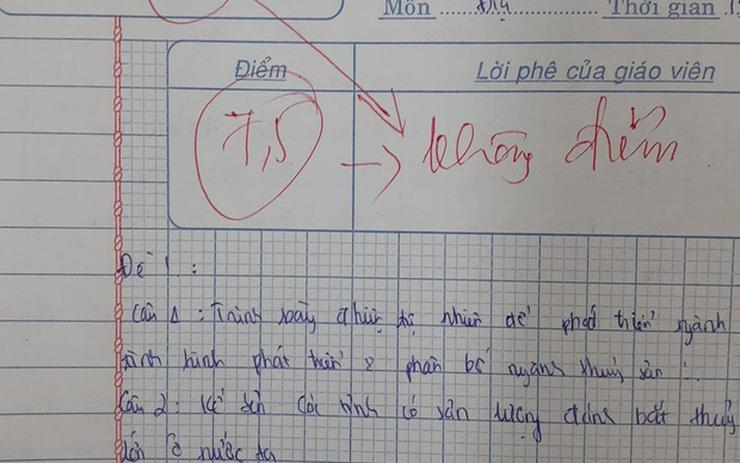text: (118, 384, 737, 445), (130, 299, 729, 349), (120, 343, 665, 390), (419, 91, 680, 189), (219, 97, 319, 174), (475, 56, 717, 86), (119, 428, 278, 463), (606, 0, 716, 20), (116, 248, 171, 282), (233, 54, 288, 82), (381, 0, 432, 18), (474, 0, 511, 24)
